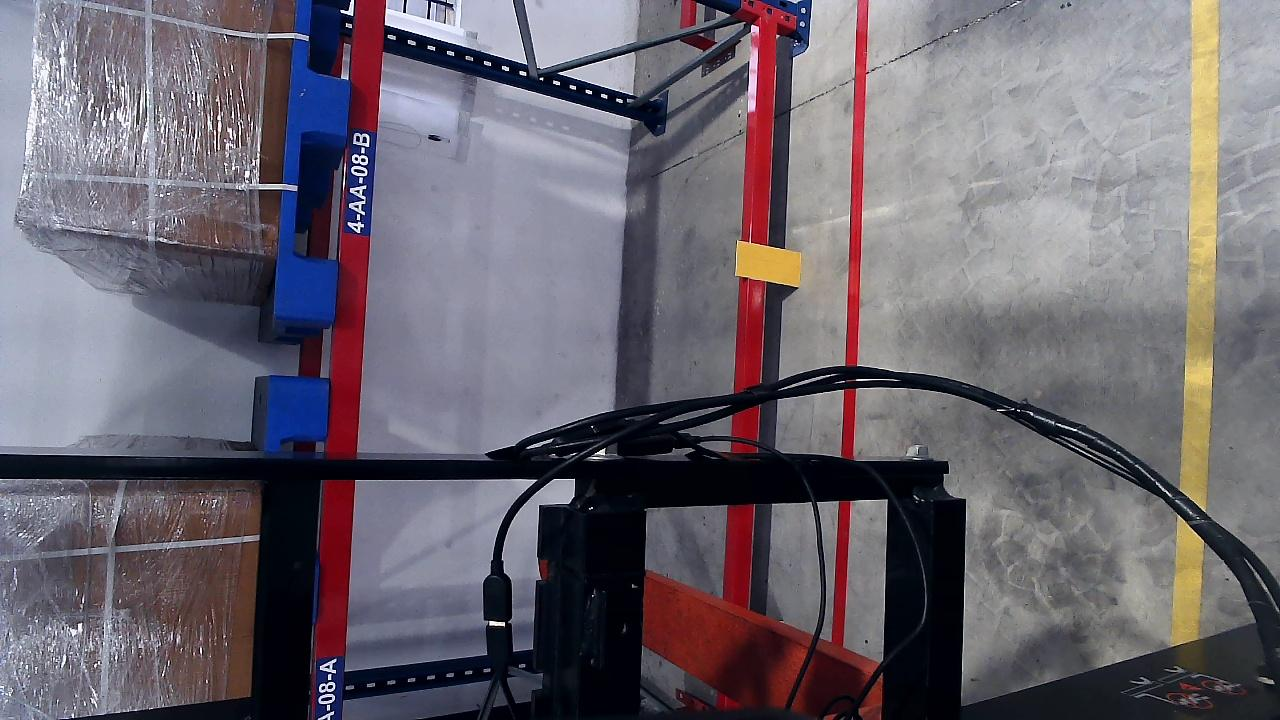h_rack: (323, 0, 391, 454), (737, 13, 780, 391)
orange_strip: (733, 241, 803, 287)
red_line: (843, 3, 868, 365)
small_pallet: (270, 0, 365, 319)
yellow_line: (1179, 4, 1221, 503)
